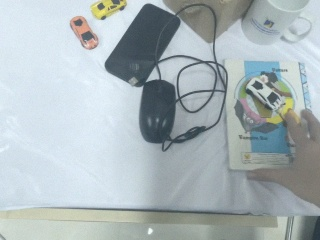book: (221, 55, 313, 171)
box: (165, 1, 251, 48)
cup: (241, 1, 316, 45)
mouse: (104, 1, 182, 88), (138, 79, 178, 144)
toy_car: (246, 76, 285, 112), (69, 15, 100, 51), (90, 1, 127, 20)
